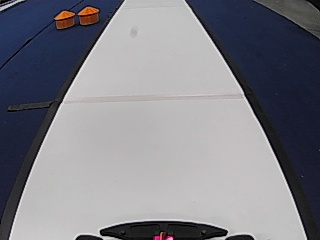granary: (53, 9, 77, 30), (77, 5, 100, 25)
